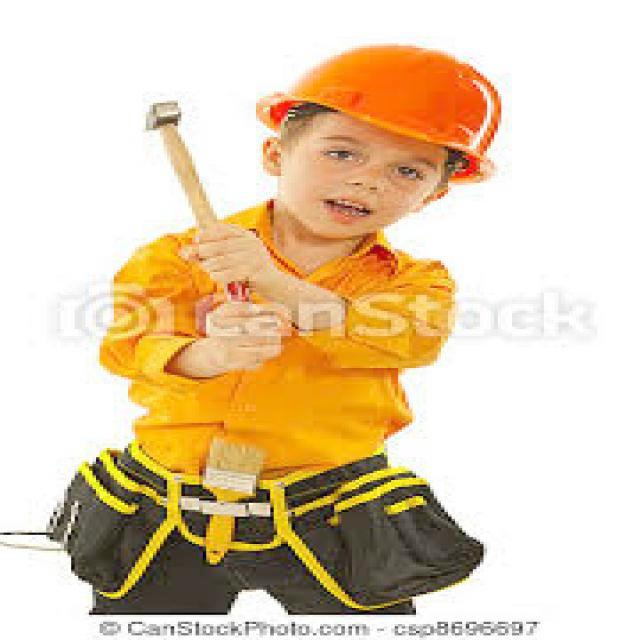hammer: (133, 92, 258, 312)
